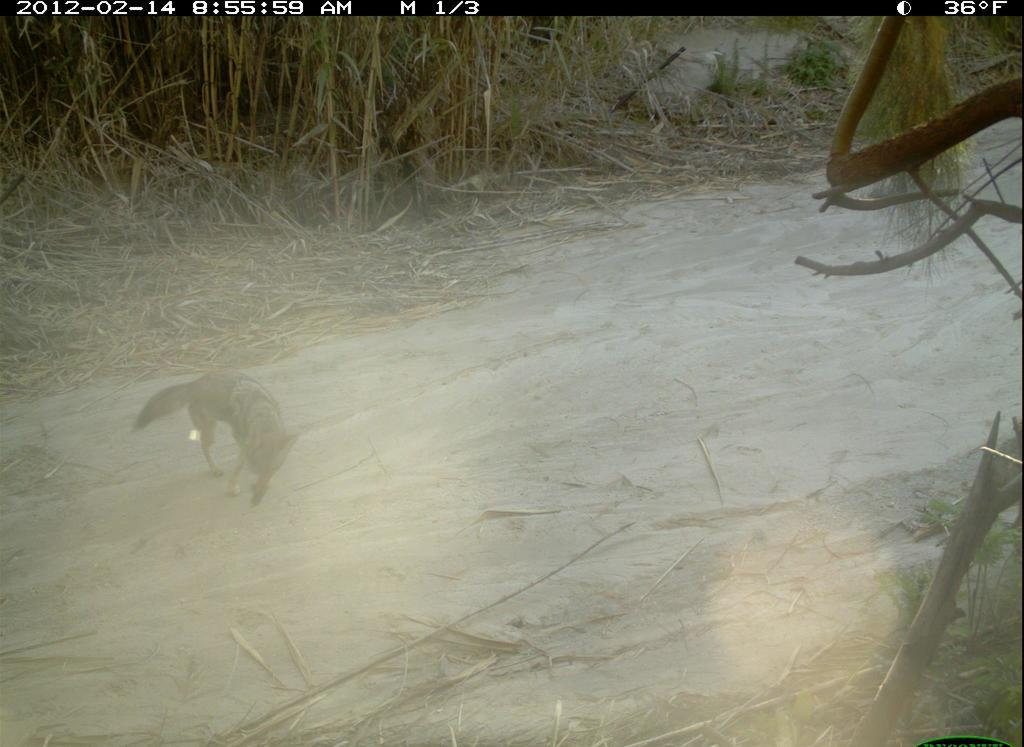coyote: (131, 363, 303, 509)
